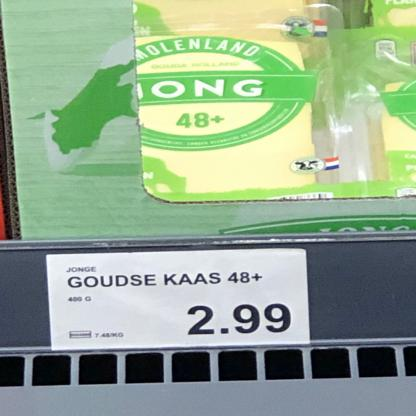prtg: (47, 249, 311, 352)
